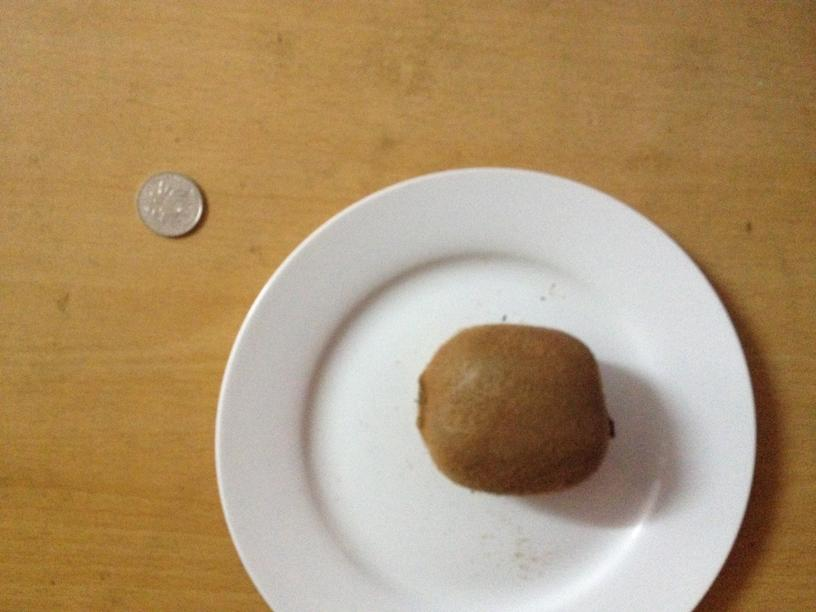coin: (138, 172, 204, 236)
qiwi: (414, 318, 616, 496)
